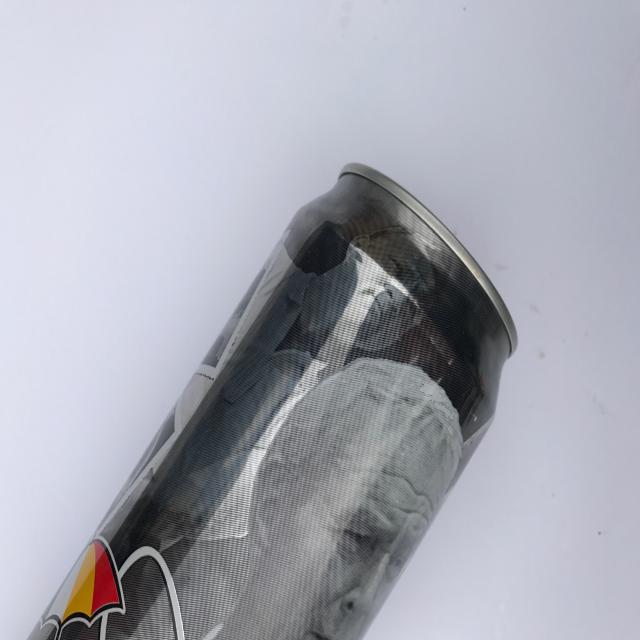metal: (20, 161, 518, 640)
